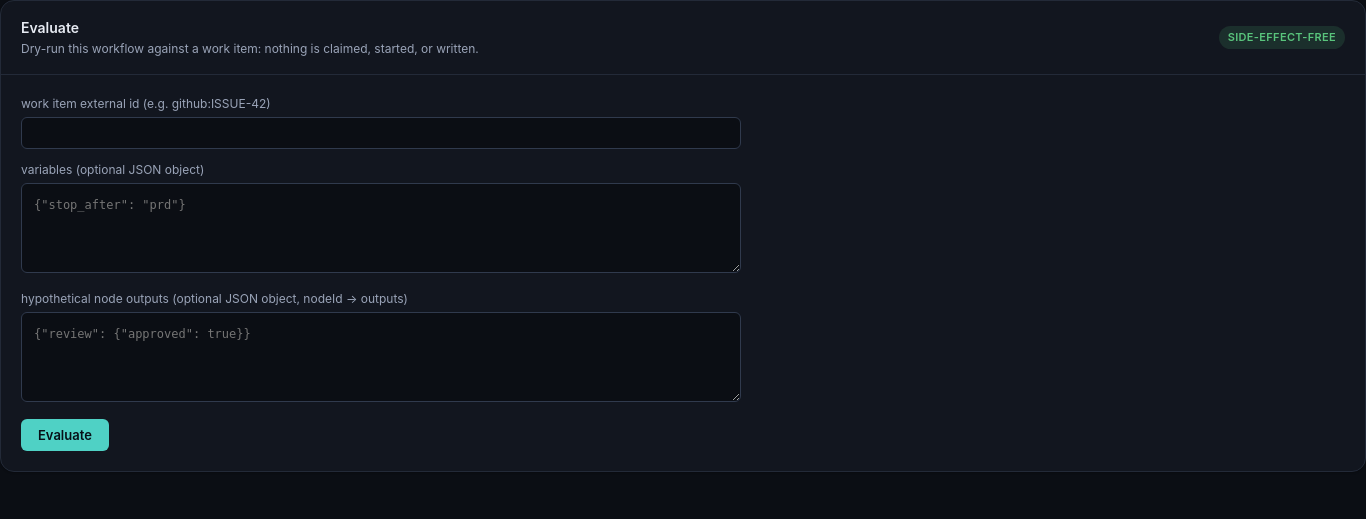
Test: EvaluatePanel › requires a work item id
This screenshot has width=1366, height=519.
Click the button "Evaluate".
click(65, 435)  # box [21,419,109,451]
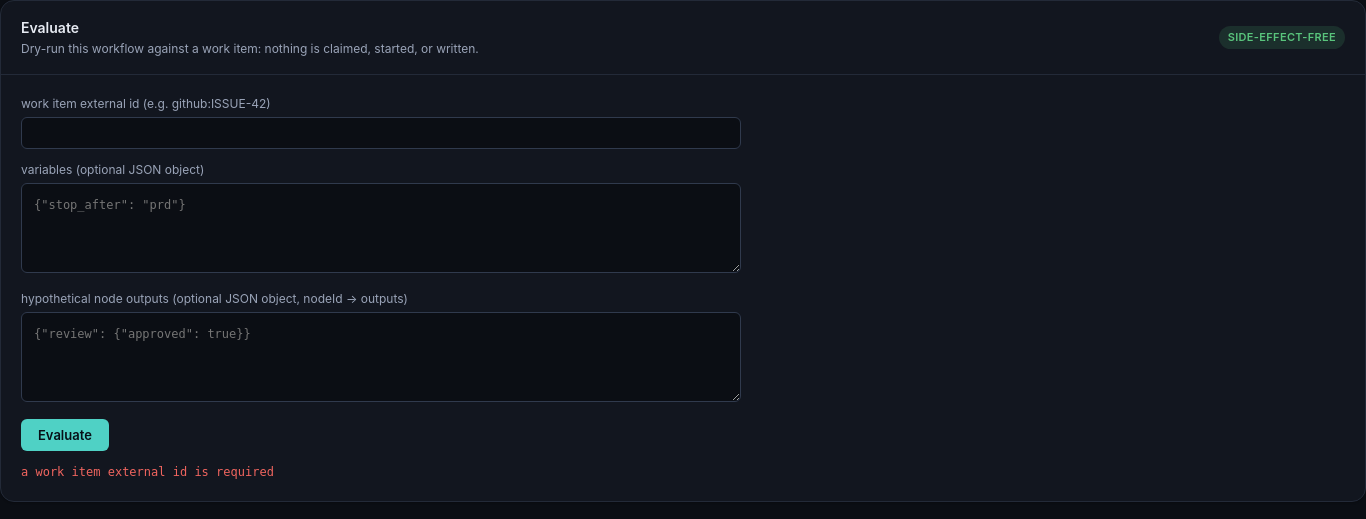
Now the text "a work item external id is required" is shown, box [21,465,274,479]
